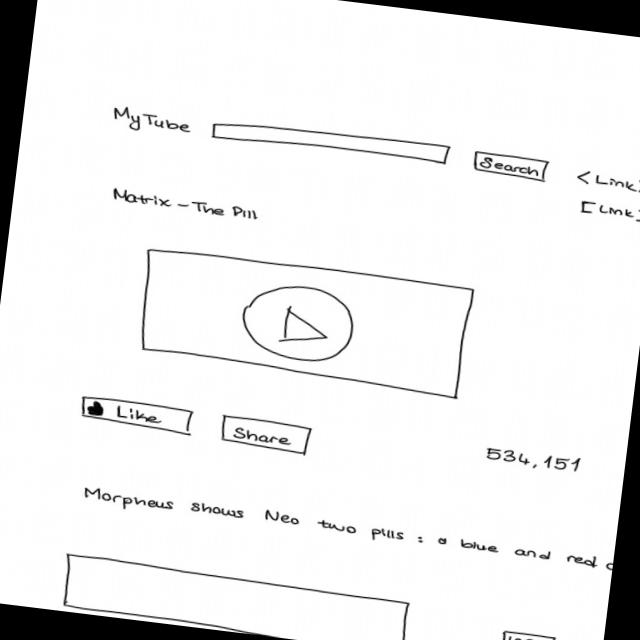button: (78, 394, 196, 436), (218, 412, 314, 457), (468, 149, 550, 183), (497, 627, 558, 640)
input: (208, 115, 452, 169)
label: (78, 482, 614, 572), (108, 183, 262, 224), (481, 443, 584, 477), (106, 103, 194, 140)
link: (571, 167, 640, 194), (576, 198, 640, 224)
textbox: (55, 549, 417, 640)
